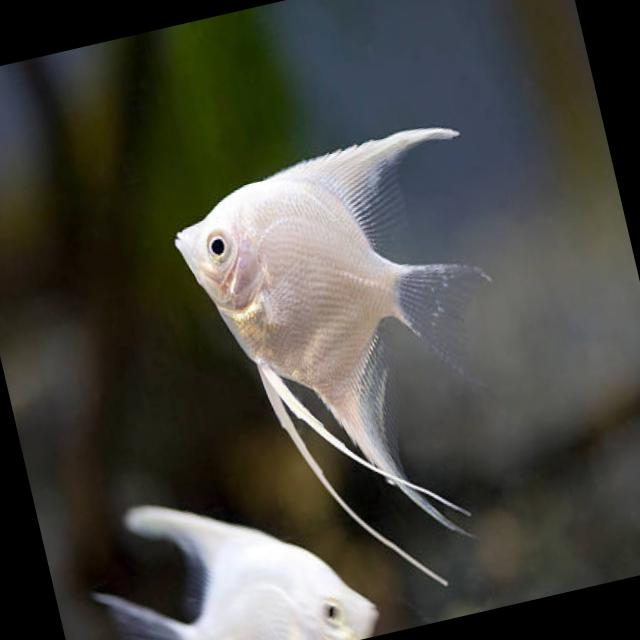AngelFish: (156, 112, 560, 634), (68, 455, 381, 640)
